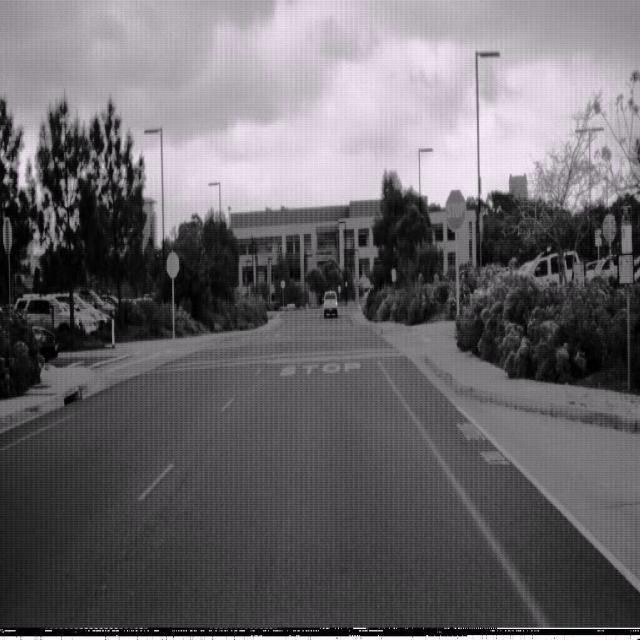stop_sign: (445, 188, 466, 232)
